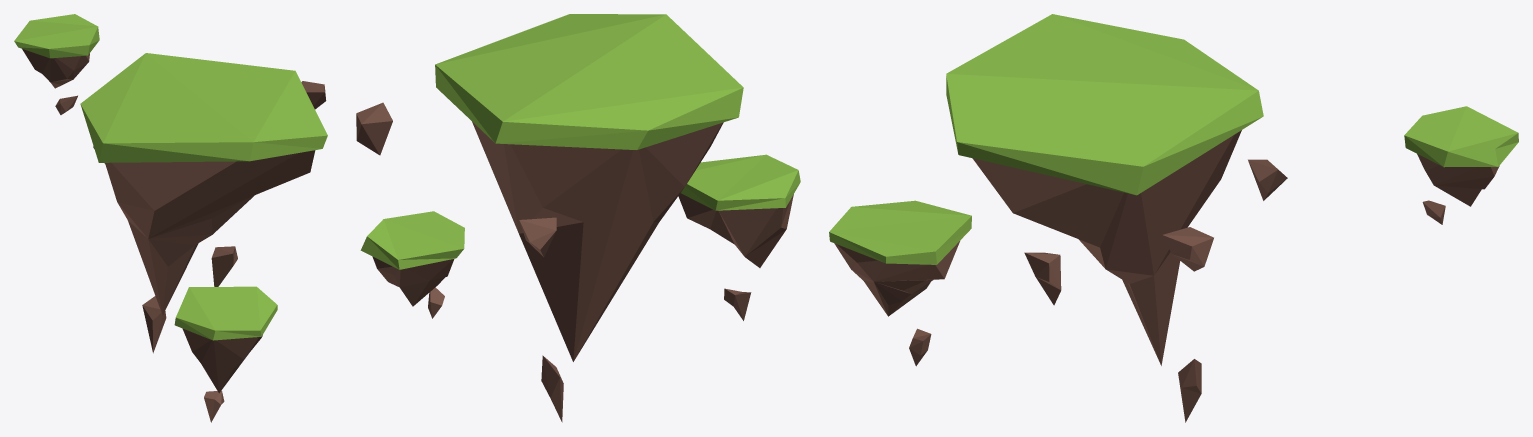
Rendered from FloatingIsland.dae.
The picture shows the model from 3 angles, left to right: view 1: azimuth 30°, elevation 25°; view 2: azimuth 150°, elevation 25°; view 3: azimuth 270°, elevation 25°; orthographic projection. The views are drawn at different scales.
Visible parts, largest first — view 1: mesh1810082506, mesh1651290667, mesh1493570185, mesh1035743550, mesh694142508, mesh615116044, mesh1061609037, mesh1094615483, mesh698118262, mesh575109798; view 2: mesh1810082506, mesh1651290667, mesh1493570185, mesh1035743550, mesh694142508, mesh615116044, mesh698118262, mesh1441309711, mesh1094615483, mesh575109798; view 3: mesh1810082506, mesh1651290667, mesh1493570185, mesh1035743550, mesh694142508, mesh615116044, mesh698118262, mesh1061609037, mesh1094615483, mesh1441309711.
Boxes of the visible parts, bbox=[...] form: mesh1810082506: bbox=[80, 53, 327, 162]; mesh1651290667: bbox=[105, 150, 315, 315]; mesh1493570185: bbox=[174, 286, 277, 340]; mesh1035743550: bbox=[14, 14, 99, 58]; mesh694142508: bbox=[182, 328, 262, 393]; mesh615116044: bbox=[22, 49, 89, 88]; mesh1061609037: bbox=[211, 246, 237, 286]; mesh1094615483: bbox=[142, 296, 166, 353]; mesh698118262: bbox=[301, 81, 326, 109]; mesh575109798: bbox=[204, 390, 224, 422]; mesh1810082506: bbox=[435, 14, 743, 149]; mesh1651290667: bbox=[472, 122, 723, 361]; mesh1493570185: bbox=[681, 154, 800, 210]; mesh1035743550: bbox=[360, 211, 464, 269]; mesh694142508: bbox=[678, 193, 793, 267]; mesh615116044: bbox=[372, 256, 454, 306]; mesh698118262: bbox=[356, 102, 392, 155]; mesh1441309711: bbox=[519, 217, 556, 256]; mesh1094615483: bbox=[541, 355, 563, 422]; mesh575109798: bbox=[724, 288, 751, 320]; mesh1810082506: bbox=[946, 14, 1263, 195]; mesh1651290667: bbox=[972, 130, 1241, 365]; mesh1493570185: bbox=[829, 200, 971, 264]; mesh1035743550: bbox=[1404, 106, 1518, 167]; mesh694142508: bbox=[834, 241, 959, 316]; mesh615116044: bbox=[1417, 154, 1499, 206]; mesh698118262: bbox=[1162, 227, 1213, 271]; mesh1061609037: bbox=[1024, 252, 1061, 305]; mesh1094615483: bbox=[1178, 359, 1201, 422]; mesh1441309711: bbox=[1248, 159, 1287, 200].
Bounding box in the file's own units: 1.22 × 2.08 × 1.18.
